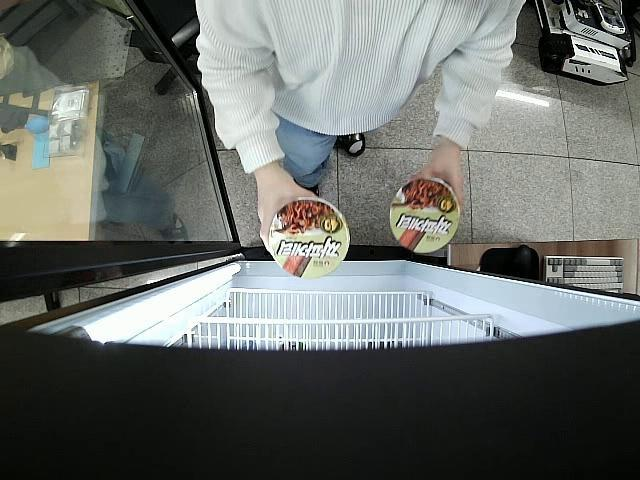03_chapagetti_L: (268, 194, 349, 280), (390, 178, 459, 257)
